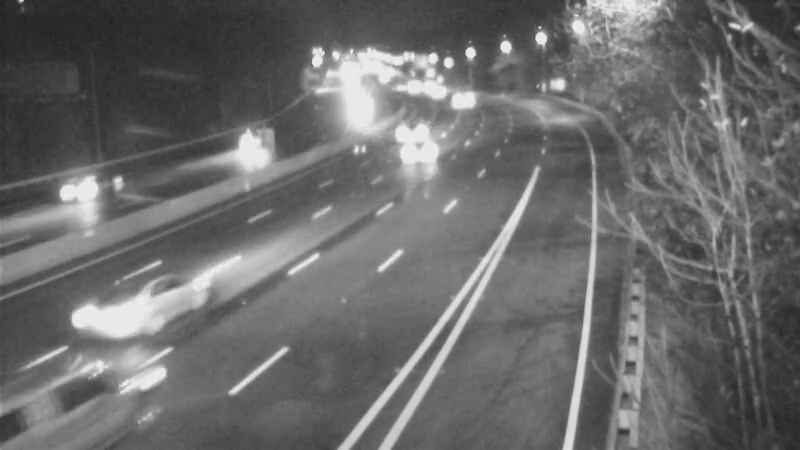vehicle: (51, 261, 161, 371), (1, 345, 110, 450), (392, 112, 472, 192), (42, 147, 122, 227), (207, 111, 287, 191), (387, 60, 437, 110), (417, 71, 467, 121), (439, 74, 489, 124), (378, 109, 428, 159), (330, 85, 380, 135)
